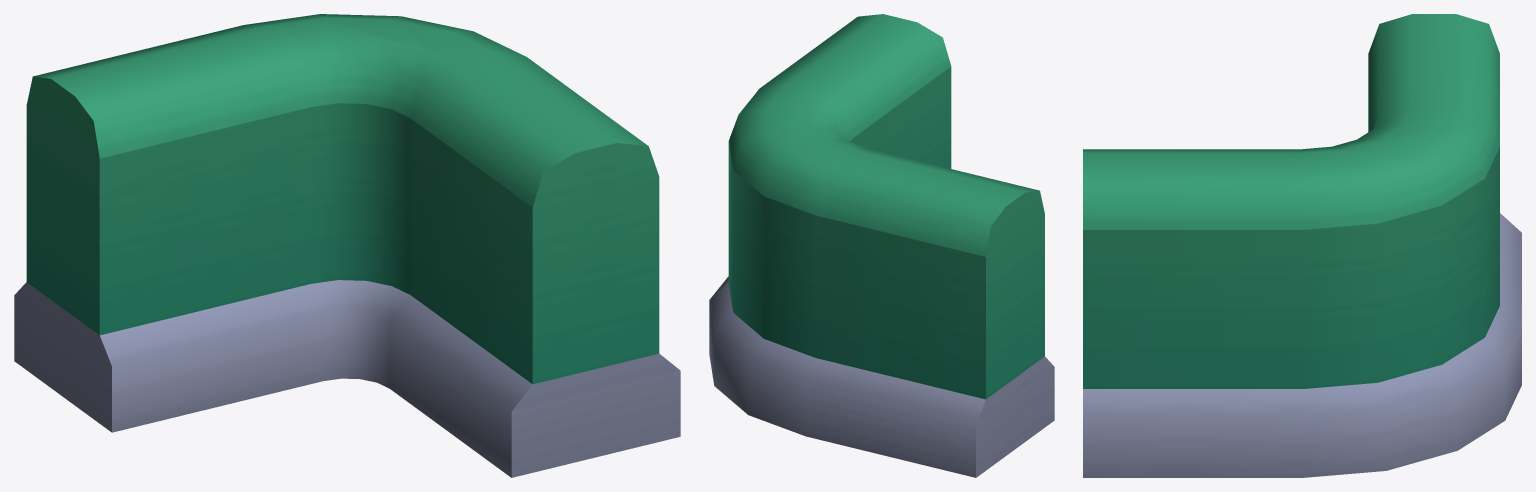
The model's file is hedgeLargeCurved.fbx.
The picture shows the model from 3 angles, left to right: view 1: azimuth 30°, elevation 25°; view 2: azimuth 150°, elevation 25°; view 3: azimuth 270°, elevation 25°; orthographic projection. The views are drawn at different scales.
Parts seen in each view (by area): view 1: hedgeLargeCurved; view 2: hedgeLargeCurved; view 3: hedgeLargeCurved.
Part boxes in pixels (x1=…): hedgeLargeCurved: x1=14, y1=14, x2=680, y2=477; hedgeLargeCurved: x1=709, y1=14, x2=1054, y2=477; hedgeLargeCurved: x1=1083, y1=14, x2=1521, y2=477.
Size of the model in its own units: 1 by 1 by 0.7.
